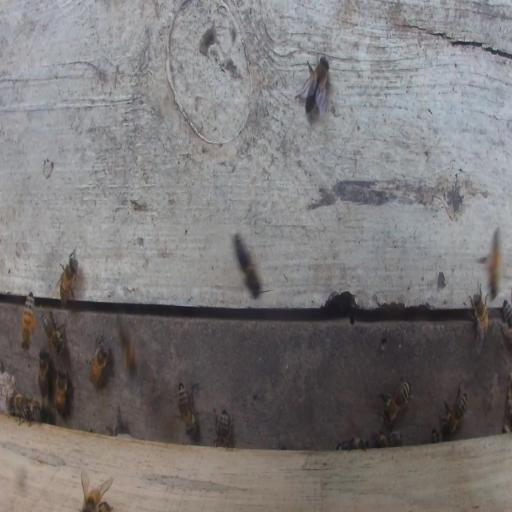nonpollenbee: (297, 54, 330, 114), (234, 234, 264, 300), (469, 283, 489, 357), (381, 379, 412, 426), (440, 385, 468, 435), (55, 247, 79, 304), (81, 472, 113, 511), (88, 334, 111, 388), (177, 382, 198, 440), (118, 318, 137, 376), (42, 311, 65, 355), (489, 225, 501, 301), (214, 408, 234, 448), (54, 368, 69, 420), (38, 349, 50, 400), (335, 434, 369, 450), (373, 430, 403, 447), (9, 393, 28, 419), (503, 299, 512, 333), (30, 400, 40, 422), (431, 427, 441, 443)
pollenbee: (22, 291, 36, 351)
